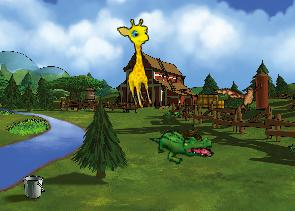crocodile: (149, 121, 215, 170)
eagle: (212, 70, 269, 121)
giraffe: (115, 16, 164, 110)
